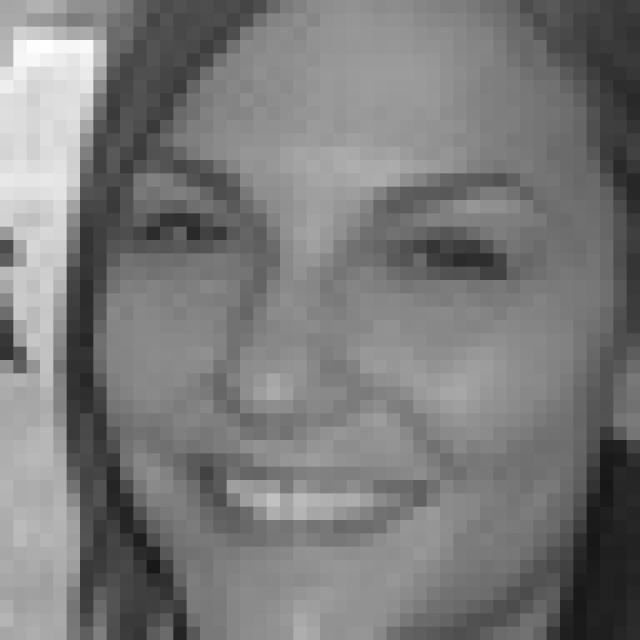happy: (123, 142, 558, 560)
